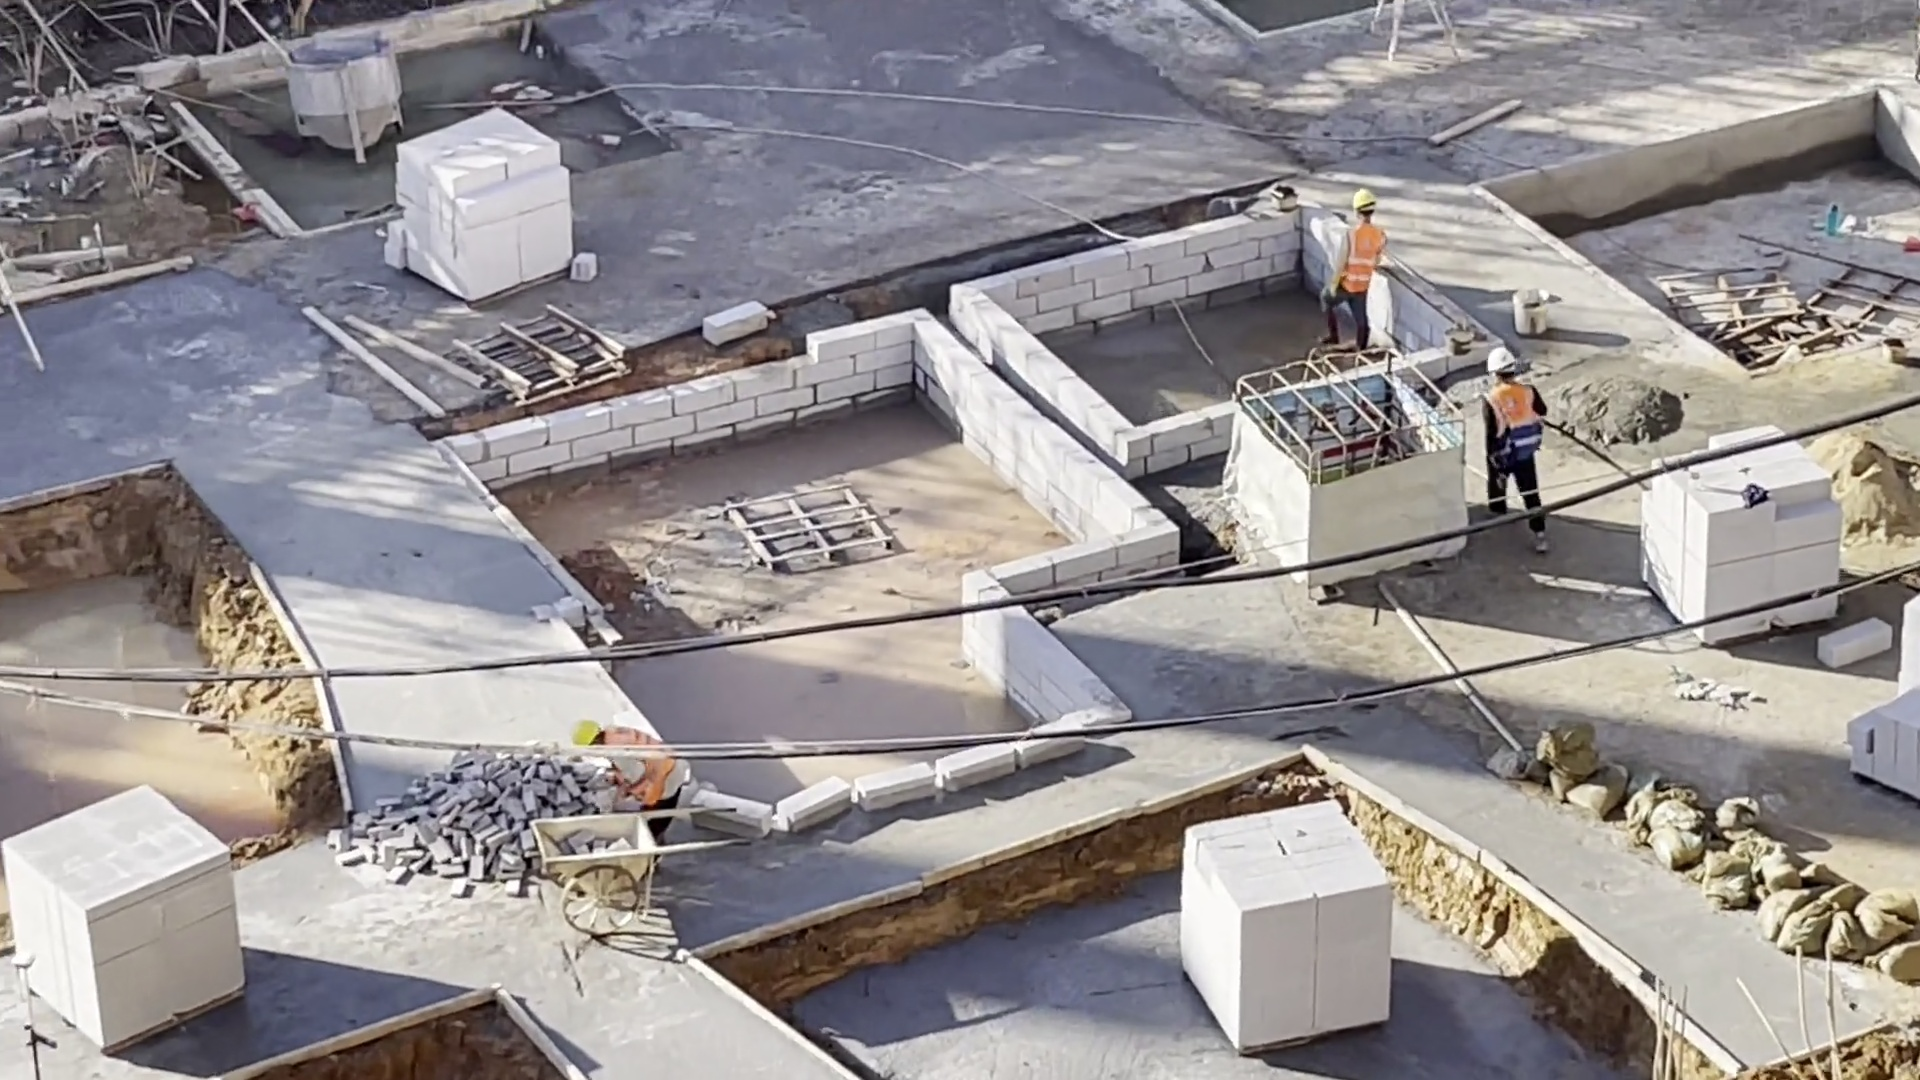helmet: (574, 716, 608, 749), (1343, 194, 1381, 221), (1486, 356, 1516, 374)
person: (583, 721, 683, 851), (1483, 335, 1539, 533), (1324, 186, 1376, 325)
vest: (619, 722, 676, 801), (1489, 379, 1539, 467), (1331, 229, 1396, 291)
